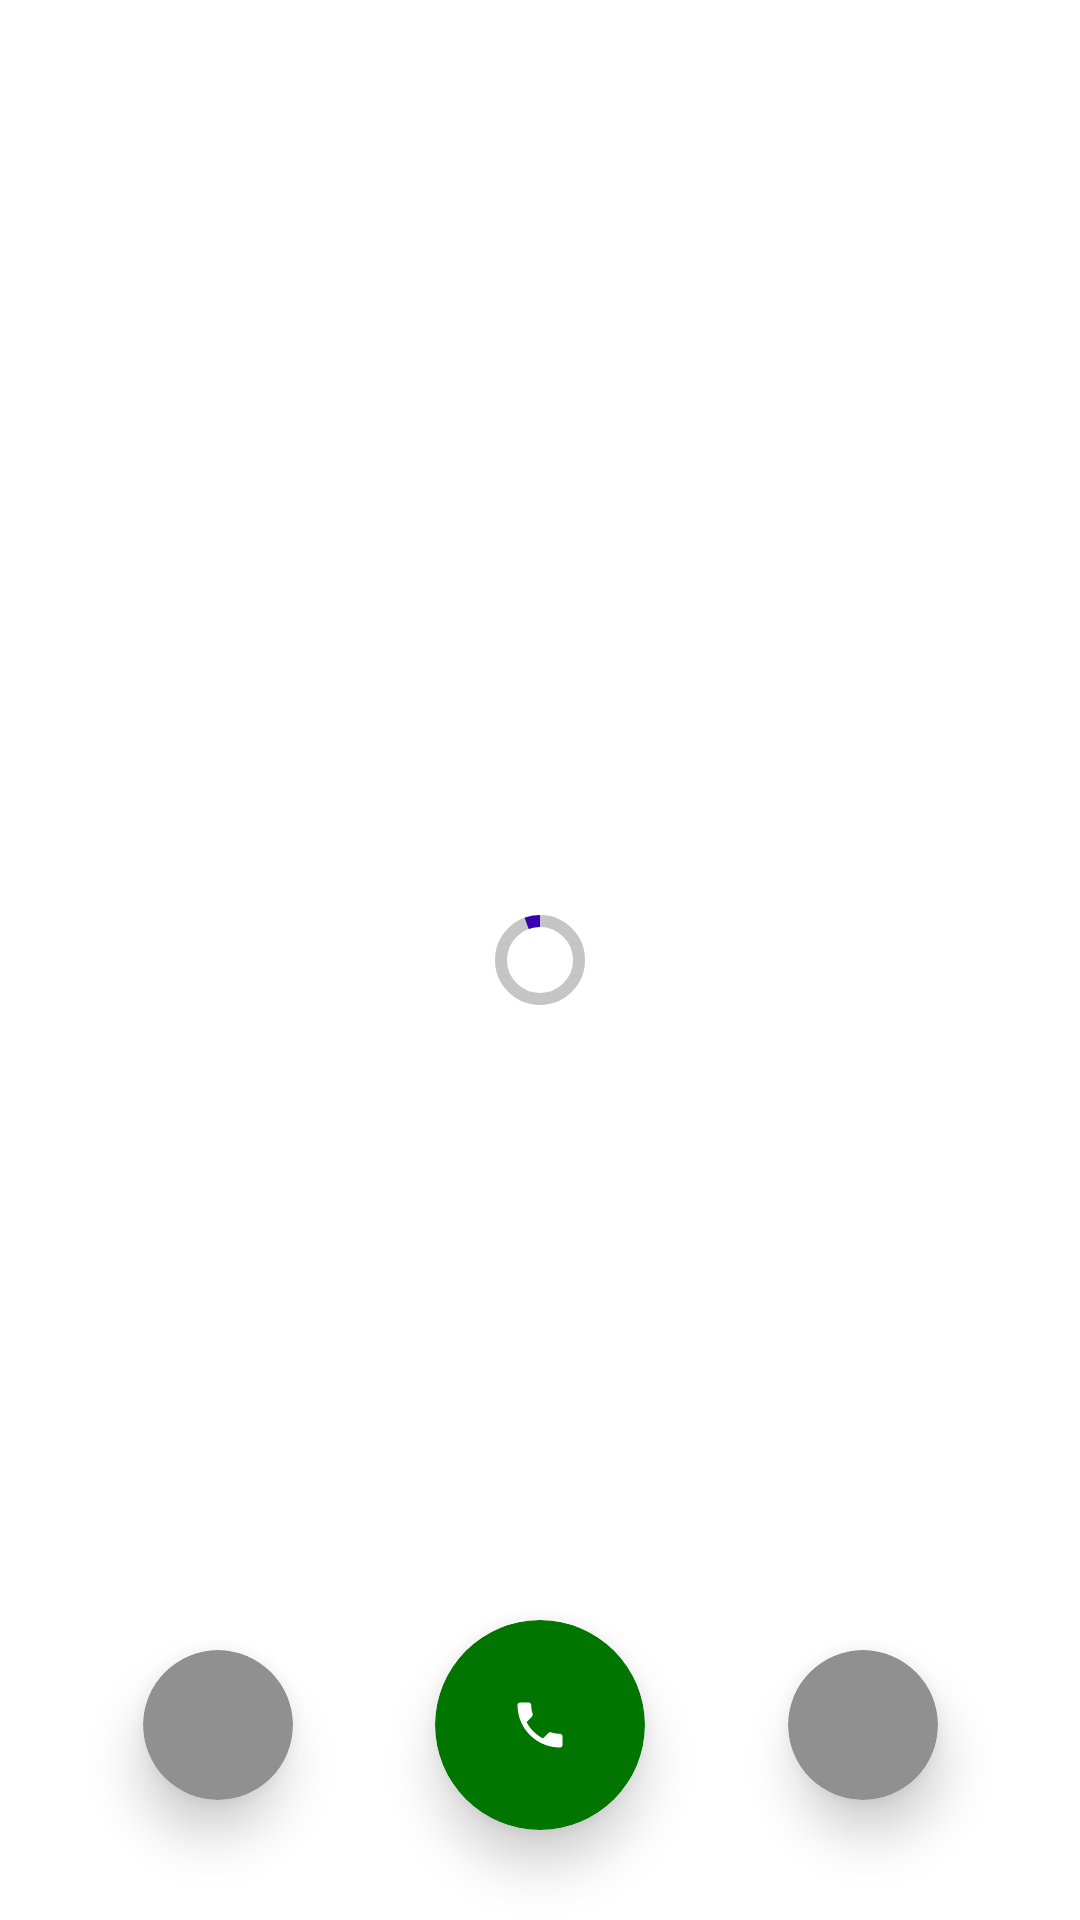

Where to tap for icons on this 1080px×1920px app screen, as (x=x, y=y):
phone: (x=540, y=1725)
